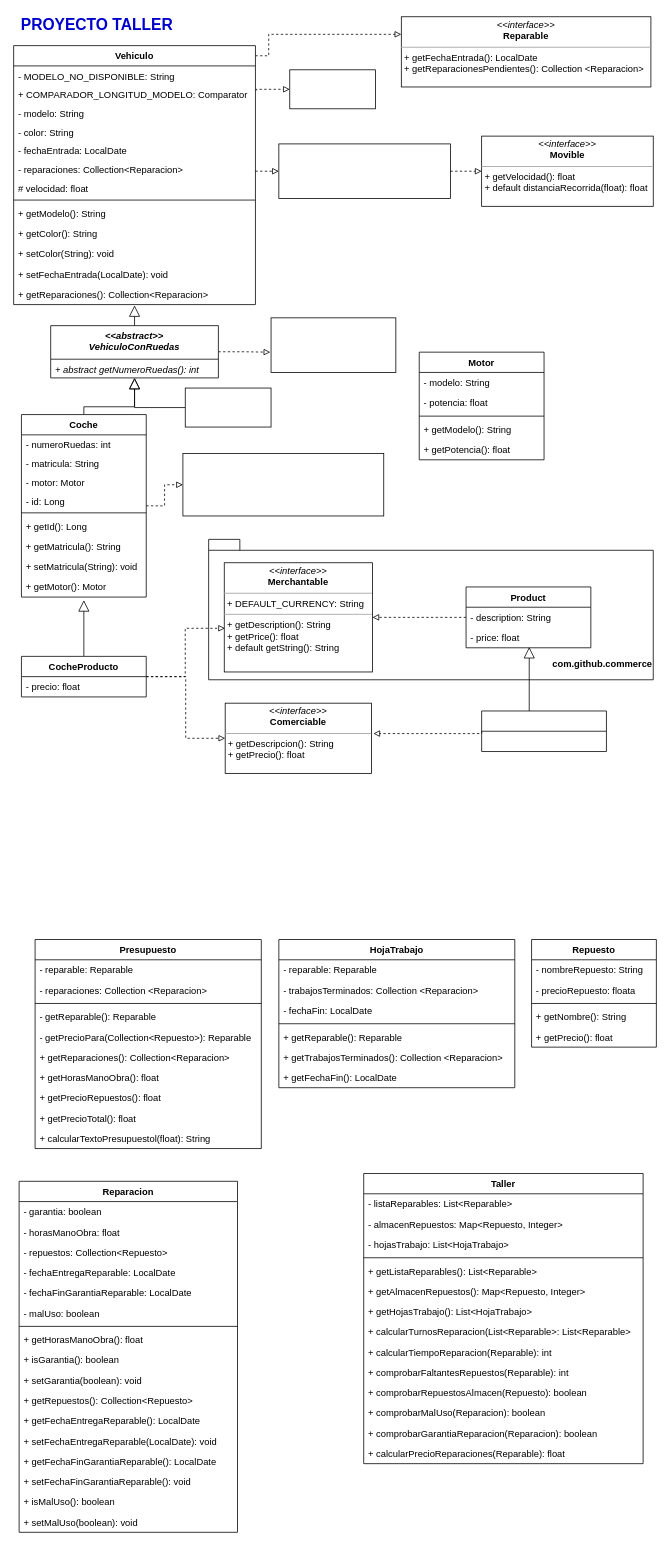
Image size: 670x1548. Some labels were removed from this diagram. Here are the shapes that lost their labels. From the top down, the centre of each, then its label:
At [332,89]: "«interface» Comparable".
At [364,171]: "<<interface>> Acelerable + getAceleracion(): float".
At [333,344]: "<<interface>> Arrancable + default arrancar(): void".
At [227,407]: "Moto".
At [283,484]: "<<interface>> Identificable<T extends Comparable<T>> + getId(): T".
At [543,731]: "ProductExterno".
